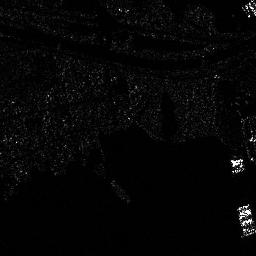ship: (236, 202, 255, 237)
